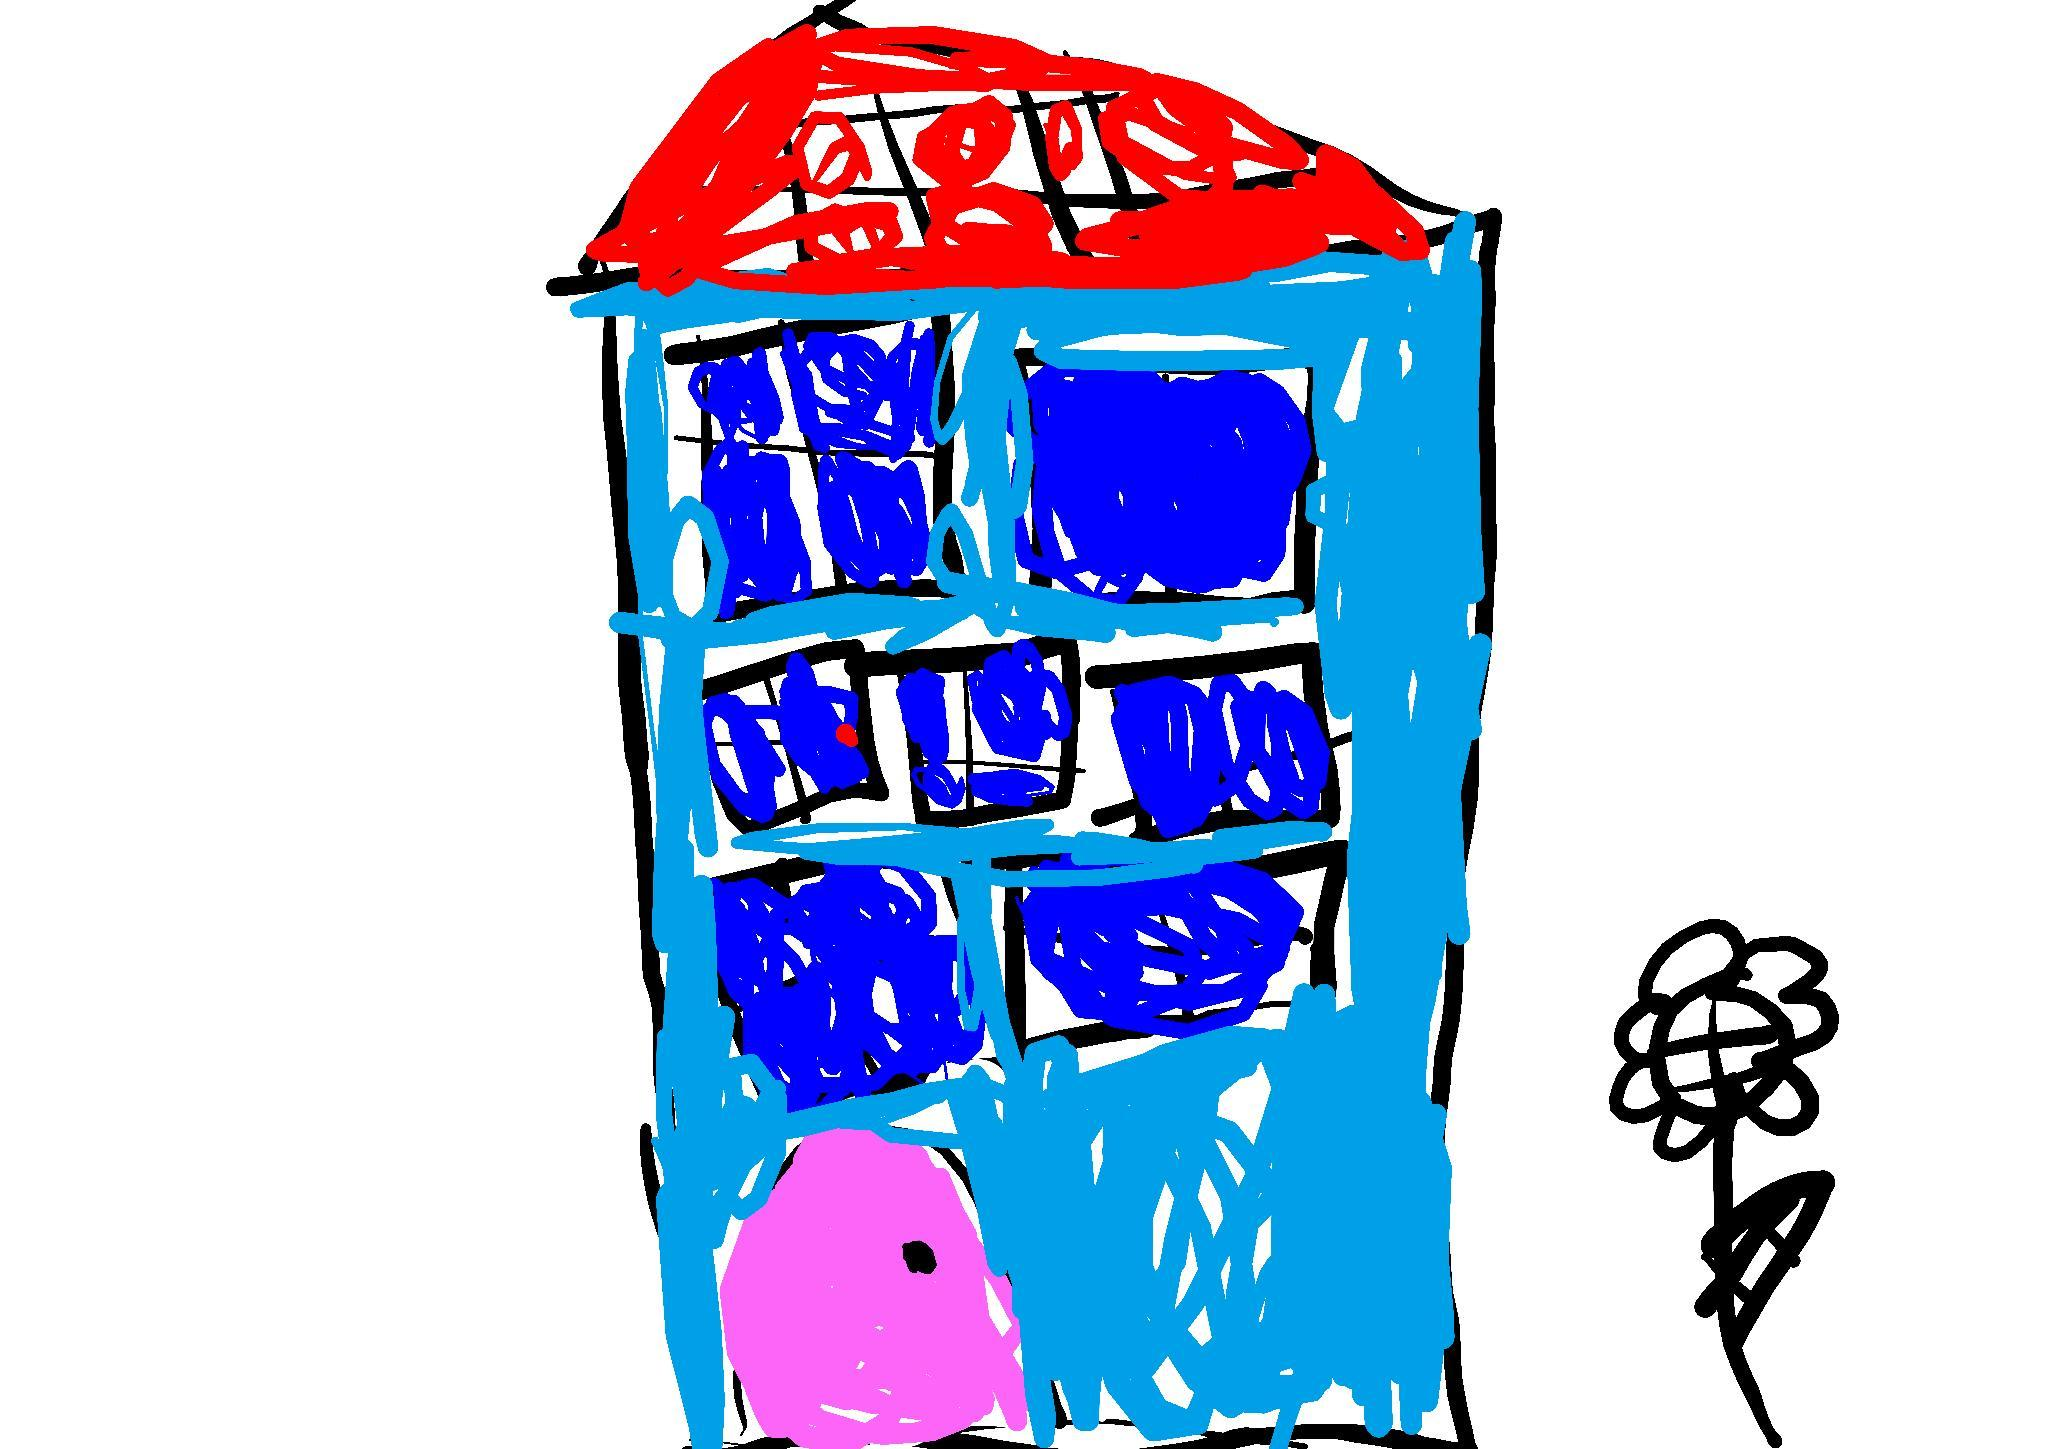door: (720, 1131, 1027, 1449)
house: (550, 2, 1501, 1449)
roof: (588, 5, 1432, 292), (869, 481, 883, 491)
wall: (619, 224, 1472, 1449)
window: (666, 321, 949, 618), (1018, 365, 1313, 602), (1008, 842, 1349, 1040), (715, 866, 983, 1110), (1088, 643, 1341, 839), (866, 638, 1080, 826), (703, 641, 888, 833)
